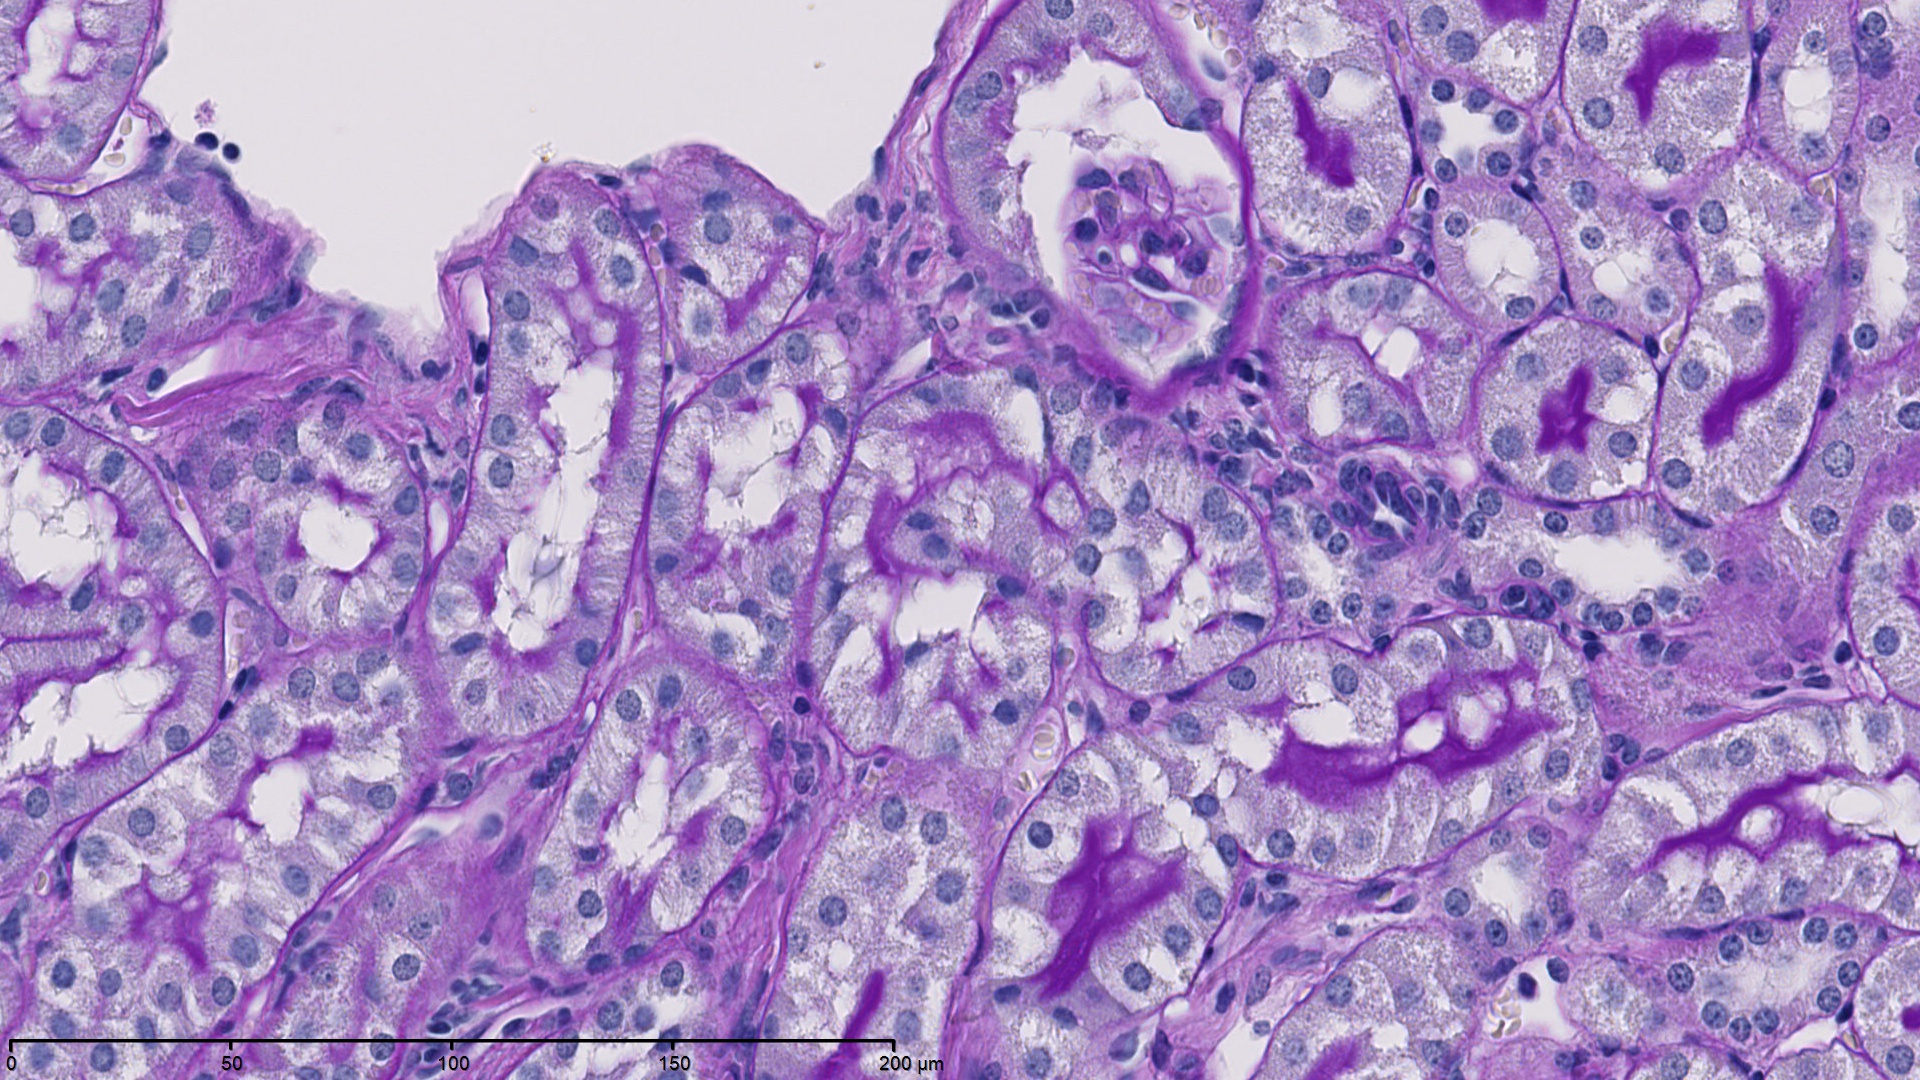Glomeruli: (1039, 142, 1257, 378), (1246, 414, 1516, 600)
